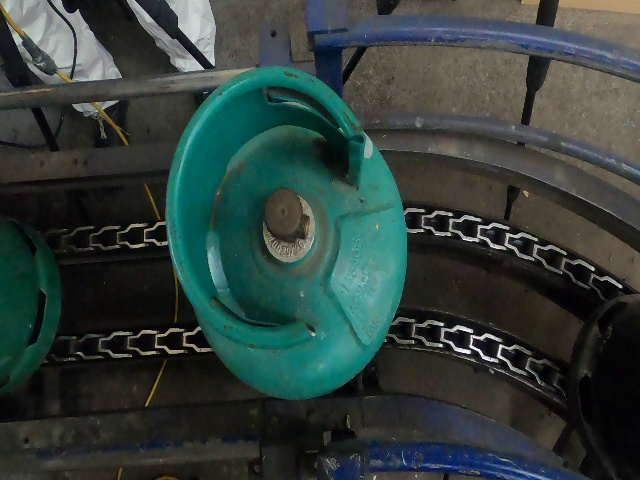gas_bottle: (4, 5, 640, 480)
